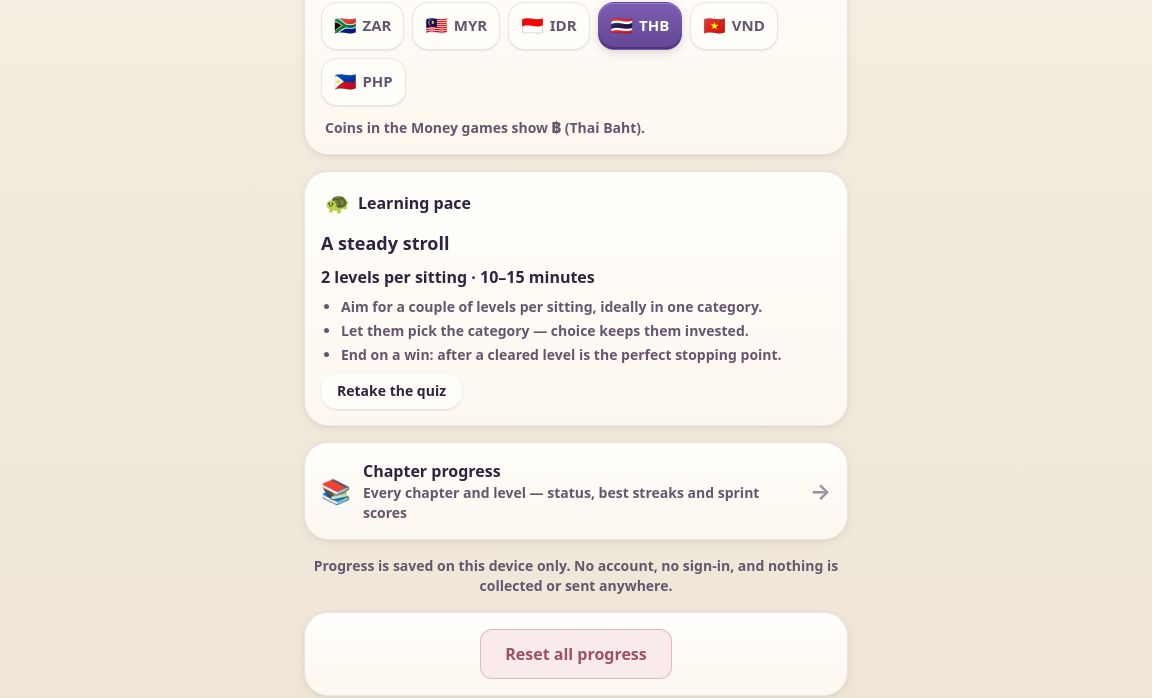
ParentView › shows lifetime accuracy per level once answers are recorded
The width and height of the screenshot is (1152, 698).
(page scrolled)
Click the button with aria-label "Chapter progress": (576, 490) top-left (304, 442), bottom-right (848, 540)
(page scrolled)
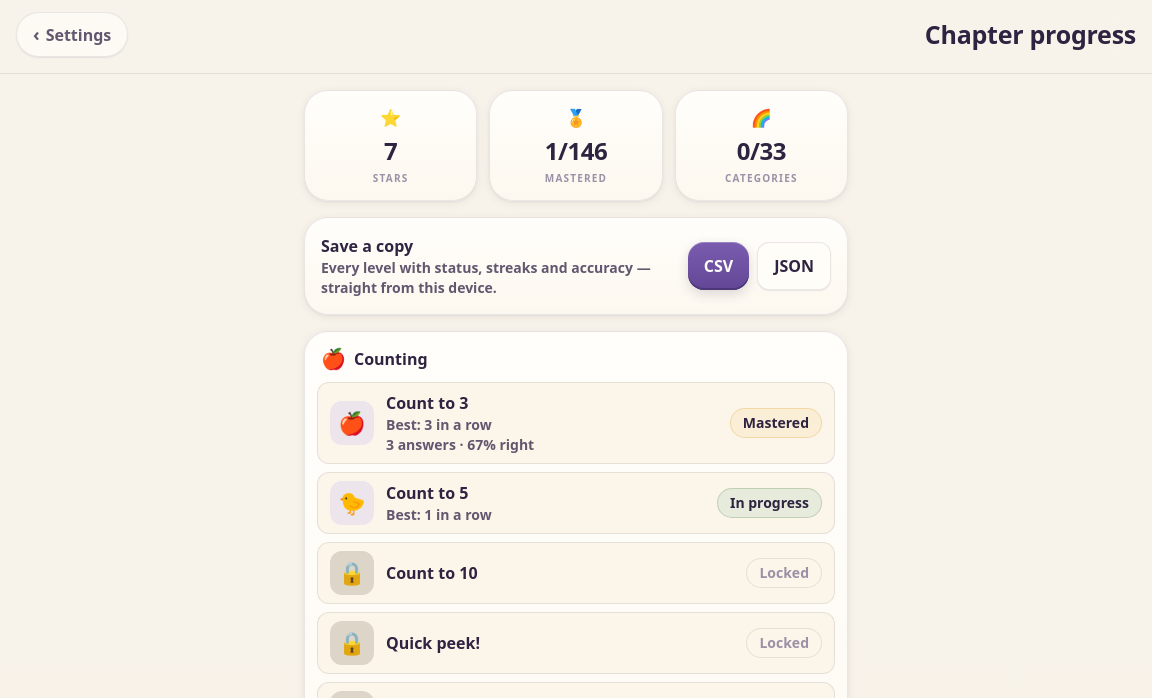
Expected: the text "3 answers · 67% right" is shown, top-left (386, 434), bottom-right (534, 454)
